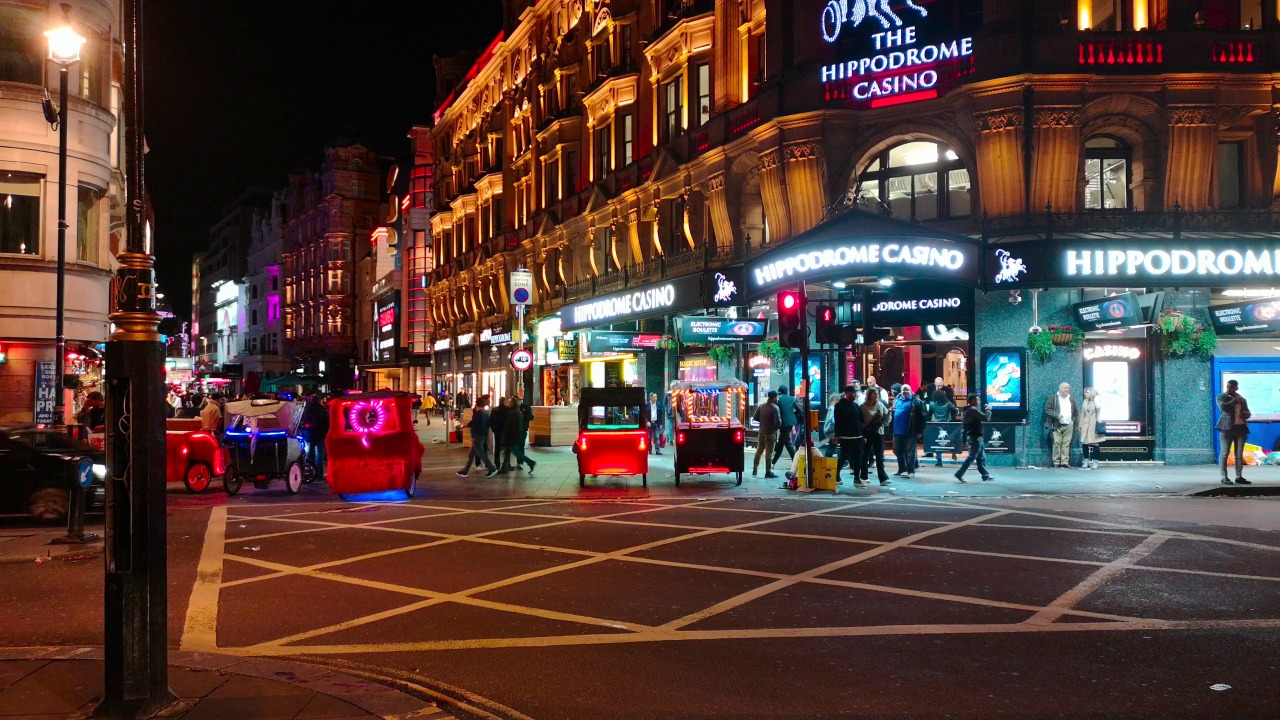car: (1, 430, 112, 529), (331, 397, 429, 496), (573, 387, 657, 494), (229, 397, 317, 499), (676, 381, 750, 489), (164, 425, 232, 503)
person: (1211, 376, 1257, 489), (956, 394, 1004, 485), (834, 384, 867, 487), (1044, 381, 1076, 472), (507, 396, 540, 484), (463, 394, 494, 481), (753, 386, 779, 479), (781, 435, 823, 492), (866, 394, 890, 490), (894, 383, 917, 480), (1077, 389, 1103, 472), (928, 390, 955, 468), (490, 395, 512, 475), (774, 386, 796, 462), (642, 389, 664, 460), (313, 393, 327, 488), (72, 392, 106, 431), (820, 388, 839, 454), (664, 374, 679, 442), (869, 372, 896, 396), (923, 378, 951, 399), (437, 387, 453, 421), (454, 385, 469, 416), (411, 394, 424, 429), (913, 378, 931, 401), (852, 377, 866, 406), (423, 386, 432, 424), (480, 392, 491, 408)
